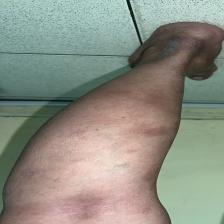DA: (19, 189, 160, 223)
